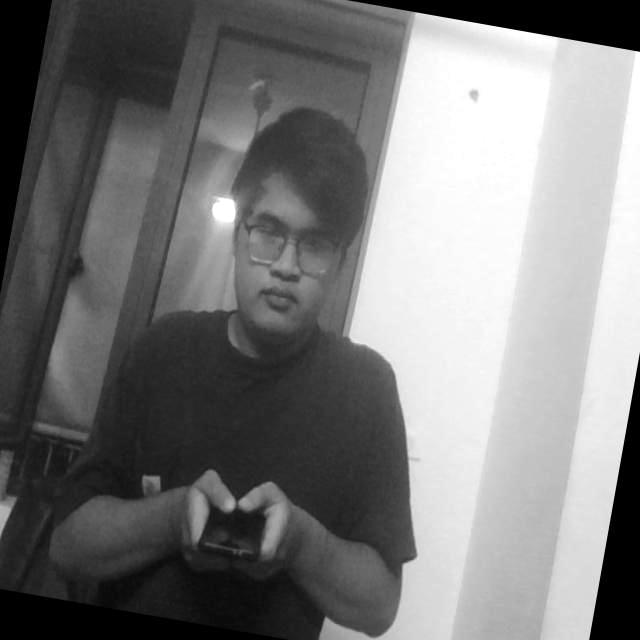phone: (178, 468, 298, 592)
